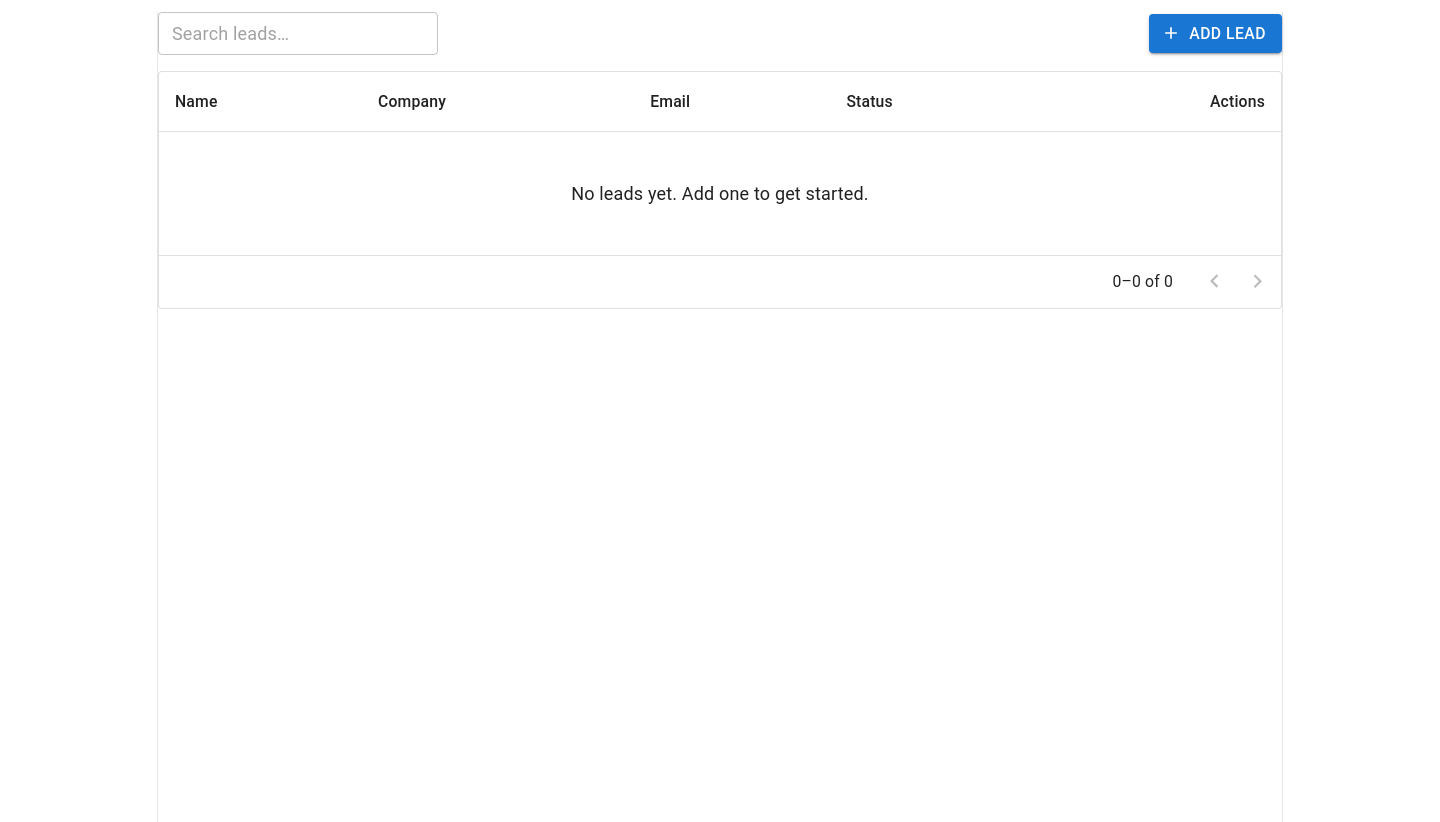
Test case: LeadListPage › shows no-match message when search returns empty
Type "xyz" into the field with placeholder "Search leads…".
click(298, 33); type("xyz")  # box [158,12,438,55]
Wait 300 ms
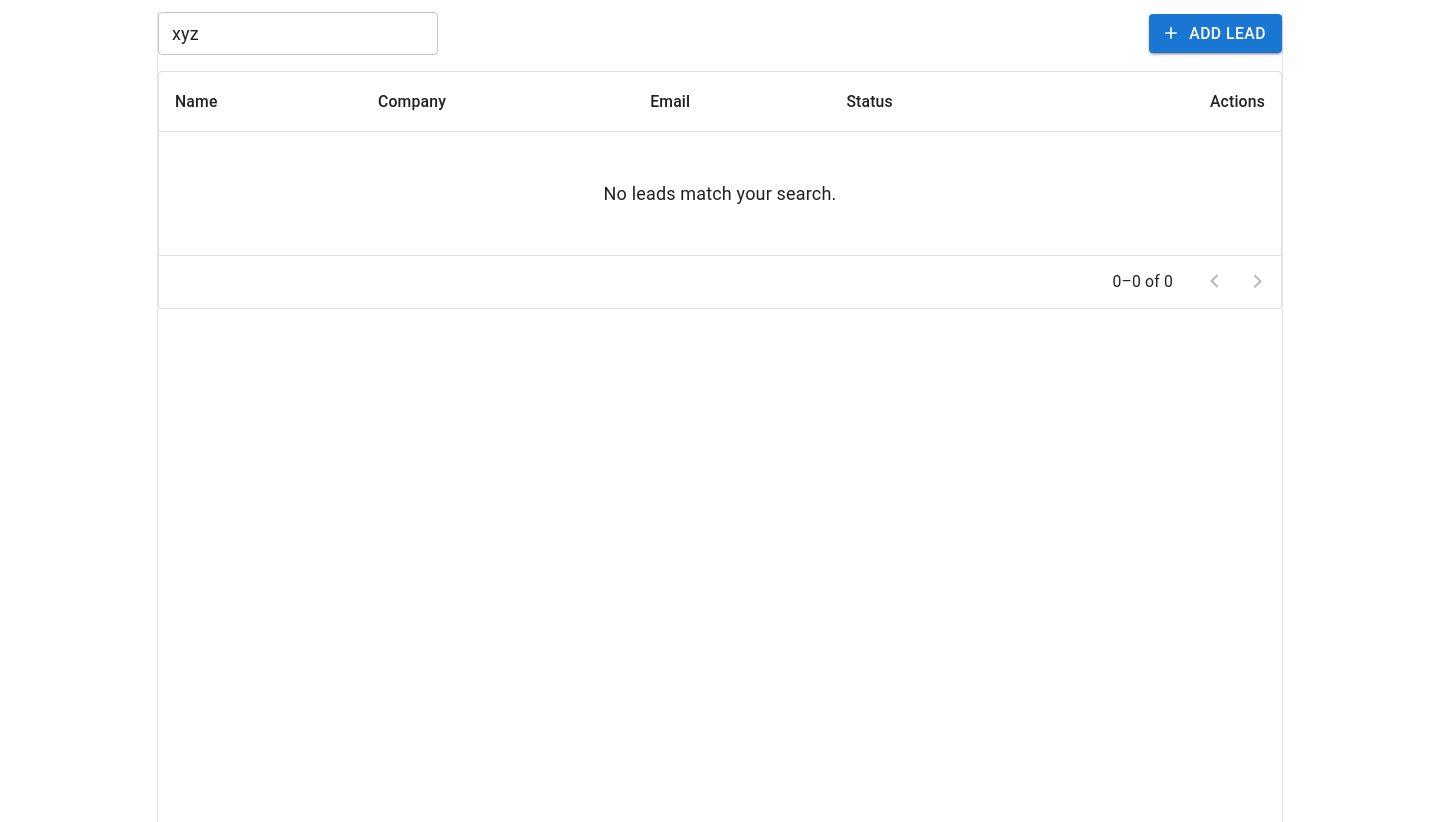
Expected: the text "No leads match your search." is shown, [604,183,836,204]
